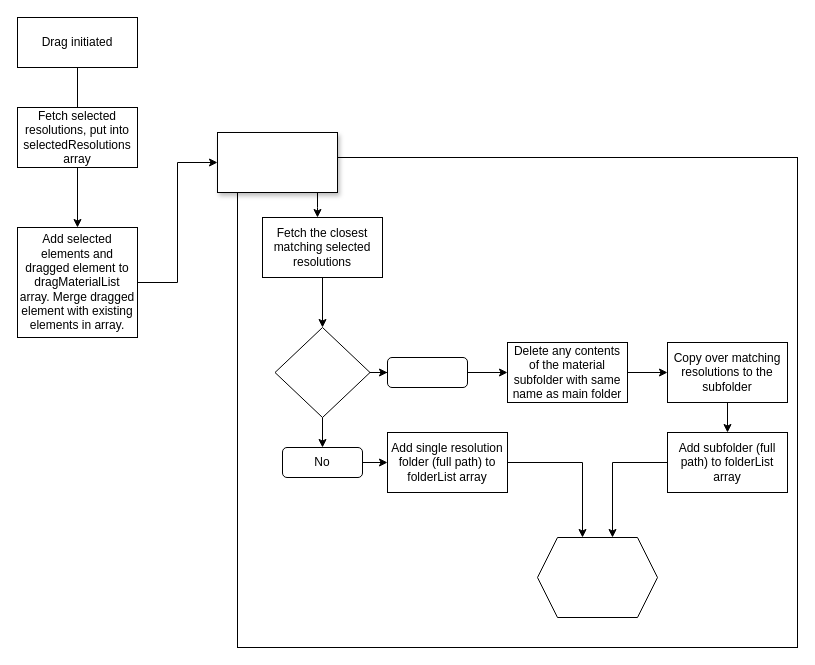
Image size: 815x665. Some labels were removed from this diagram. The shapes that lost their labels are listed below. From the top down, each one's centre as x and y in pixels, then its label:
point 278,164: Iterate through each entry in the dragMaterialList array
point 322,372: Are there more than 1 matching resolutions?
point 427,372: Yes
point 597,577: Go to next loop
